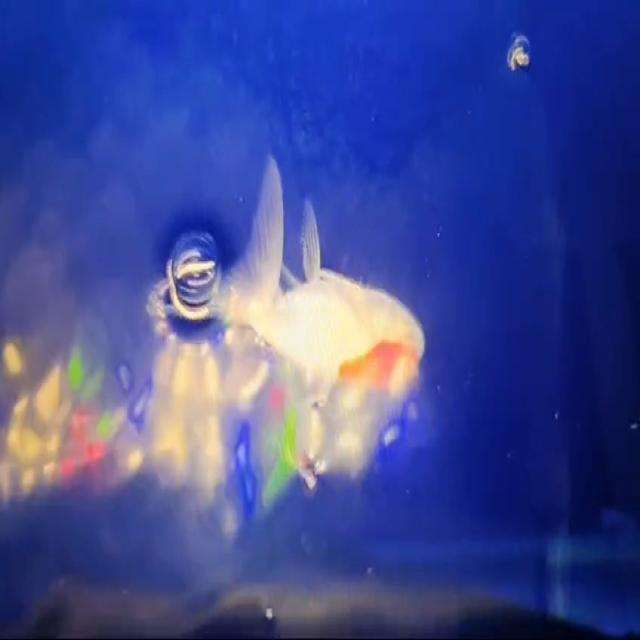fish: (223, 134, 426, 422)
